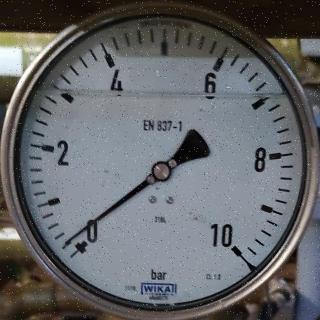gauge: (0, 0, 320, 320), (203, 222, 252, 270), (62, 219, 102, 263), (151, 160, 173, 182), (59, 234, 75, 250)
